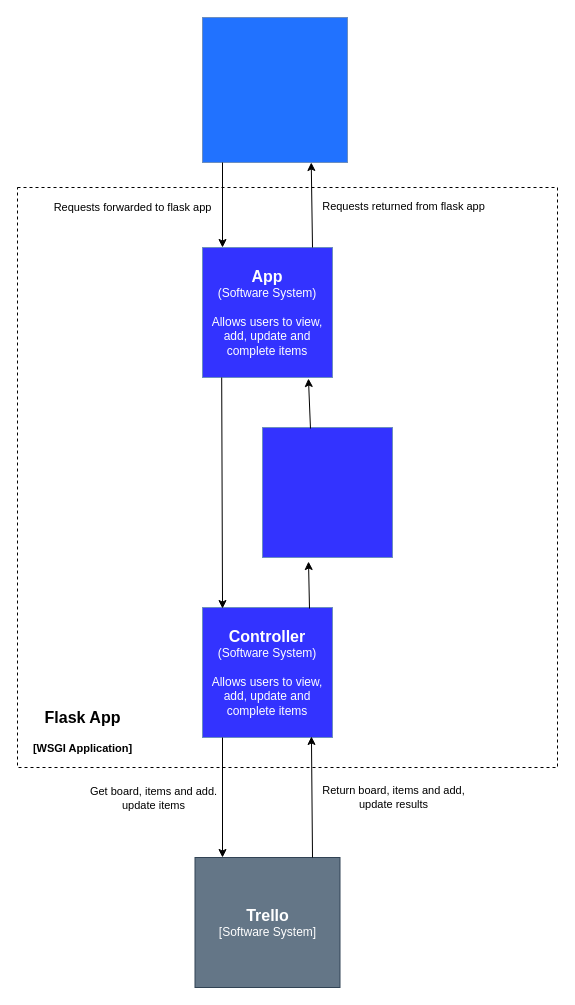
Some shapes in this 575 by 1005 pixel diagram are drawn without their labels. The shapes that lost their labels are listed below. From the top down, each one's centre as x and y in pixels, then its label:
At (x=275, y=89): "Gunicorn [Container: WSGI Server] Managers workers to service requests".
At (x=327, y=492): "ViewModel (Software System) Allows users to view, add, update and complete items".
